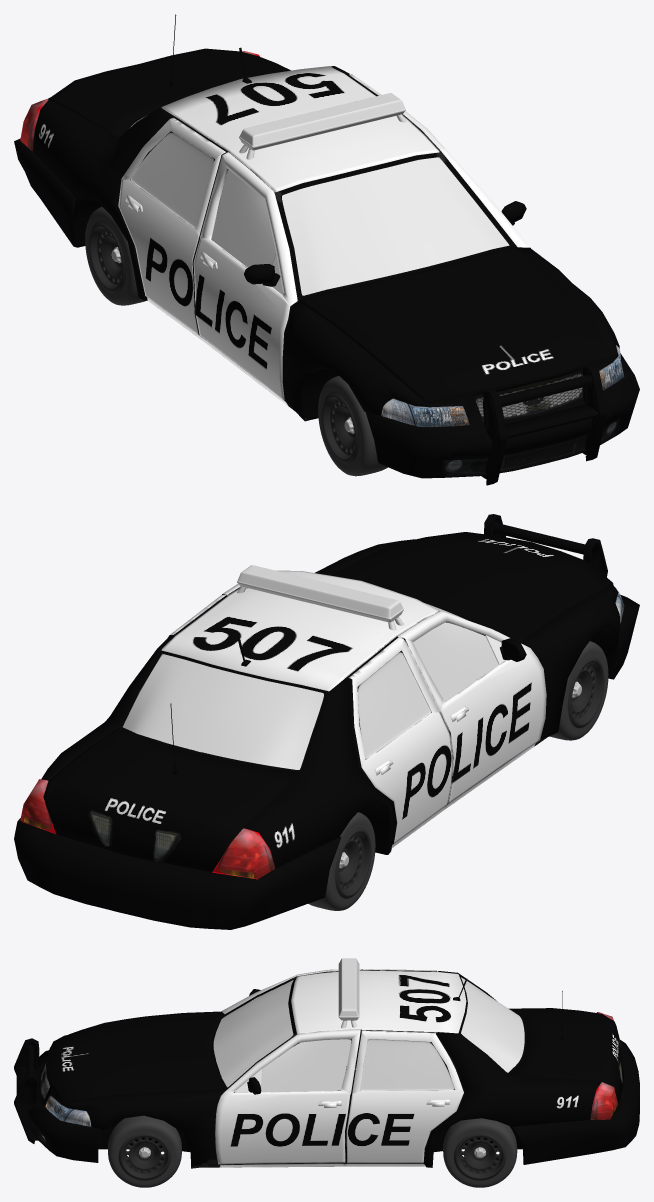
File: Ford Crown Victoria Police Interceptor.fbx
The picture shows the model from 3 angles, top to bottom: view 1: azimuth 30°, elevation 25°; view 2: azimuth 150°, elevation 25°; view 3: azimuth 270°, elevation 25°; orthographic projection. The views are drawn at different scales.
Parts seen in each view (by area): view 1: CrownVic.Body, windows glass, CrownVic.Wheel.Ft.R, Roof light bar, CrownVic.Wheel.Bk.R; view 2: CrownVic.Body, windows glass, Roof light bar, CrownVic.Wheel.Bk.R, CrownVic.Wheel.Ft.R; view 3: CrownVic.Body, windows glass, CrownVic.Wheel.Ft.L, CrownVic.Wheel.Bk.L, Roof light bar.
Part boxes in pixels (<box>): CrownVic.Body: <box>14,14,639,485</box>; windows glass: <box>129,116,508,295</box>; CrownVic.Wheel.Ft.R: <box>318,376,387,476</box>; Roof light bar: <box>239,93,406,159</box>; CrownVic.Wheel.Bk.R: <box>85,207,146,305</box>; CrownVic.Body: <box>14,514,639,929</box>; windows glass: <box>123,603,498,769</box>; Roof light bar: <box>237,565,404,630</box>; CrownVic.Wheel.Bk.R: <box>308,812,375,910</box>; CrownVic.Wheel.Ft.R: <box>549,641,608,740</box>; CrownVic.Body: <box>14,969,639,1168</box>; windows glass: <box>213,977,524,1092</box>; CrownVic.Wheel.Ft.L: <box>108,1115,181,1187</box>; CrownVic.Wheel.Bk.L: <box>443,1118,517,1187</box>; Roof light bar: <box>338,958,359,1028</box>.
Bounding box in the file's own units: 250 × 198 × 671.
